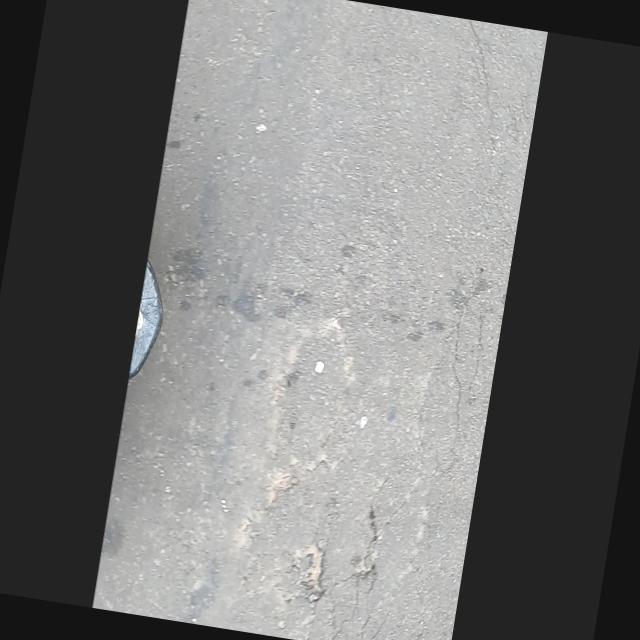Lubang: (301, 544, 323, 603)
